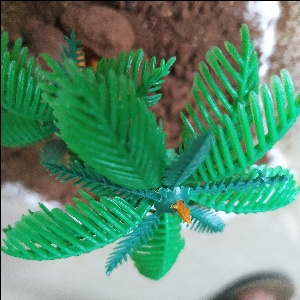plant: (9, 21, 278, 262)
